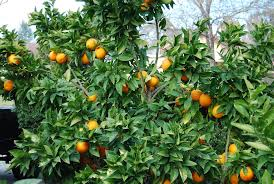orange: (198, 91, 213, 106), (136, 67, 149, 80), (93, 46, 107, 58), (146, 75, 159, 87)
